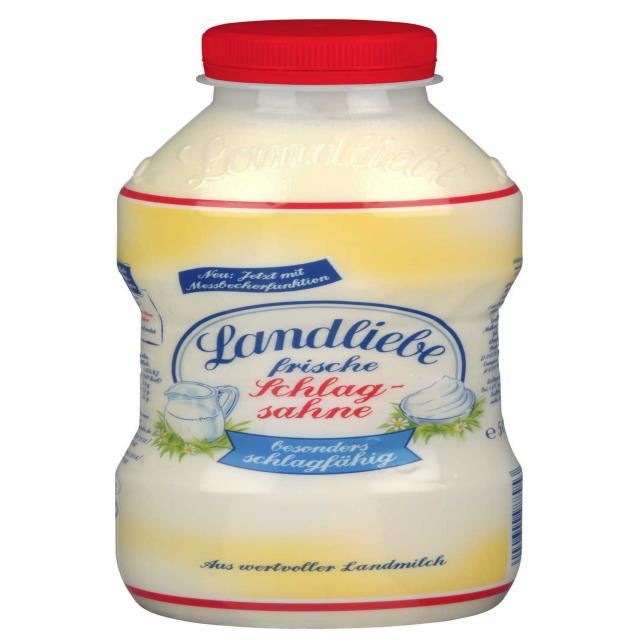Cream: (114, 19, 523, 629)
